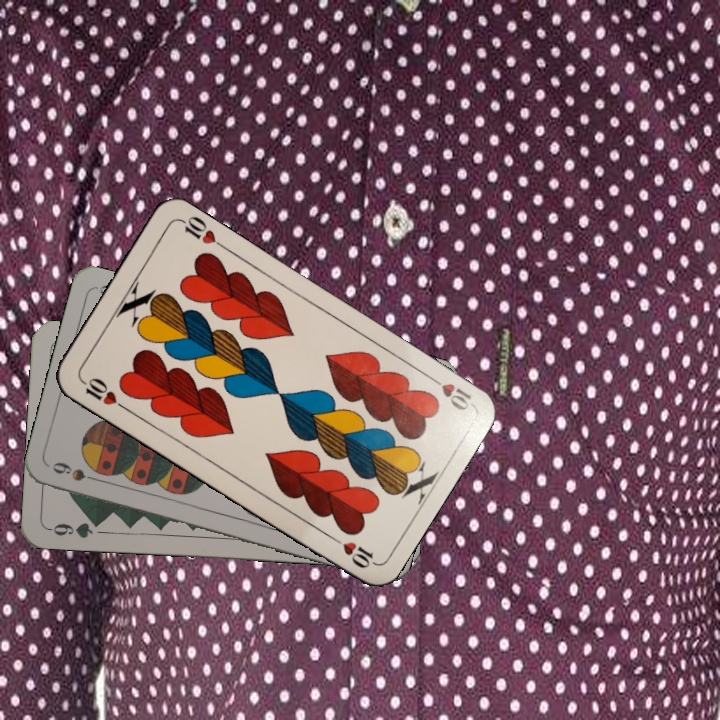G9: (45, 516, 105, 541)
H10: (423, 370, 474, 413), (76, 373, 129, 413)
S9: (48, 458, 106, 485)
